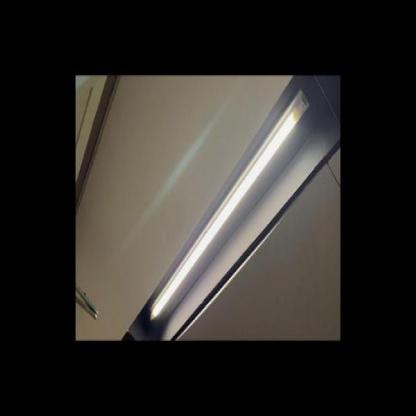light_on: (148, 85, 311, 325)
